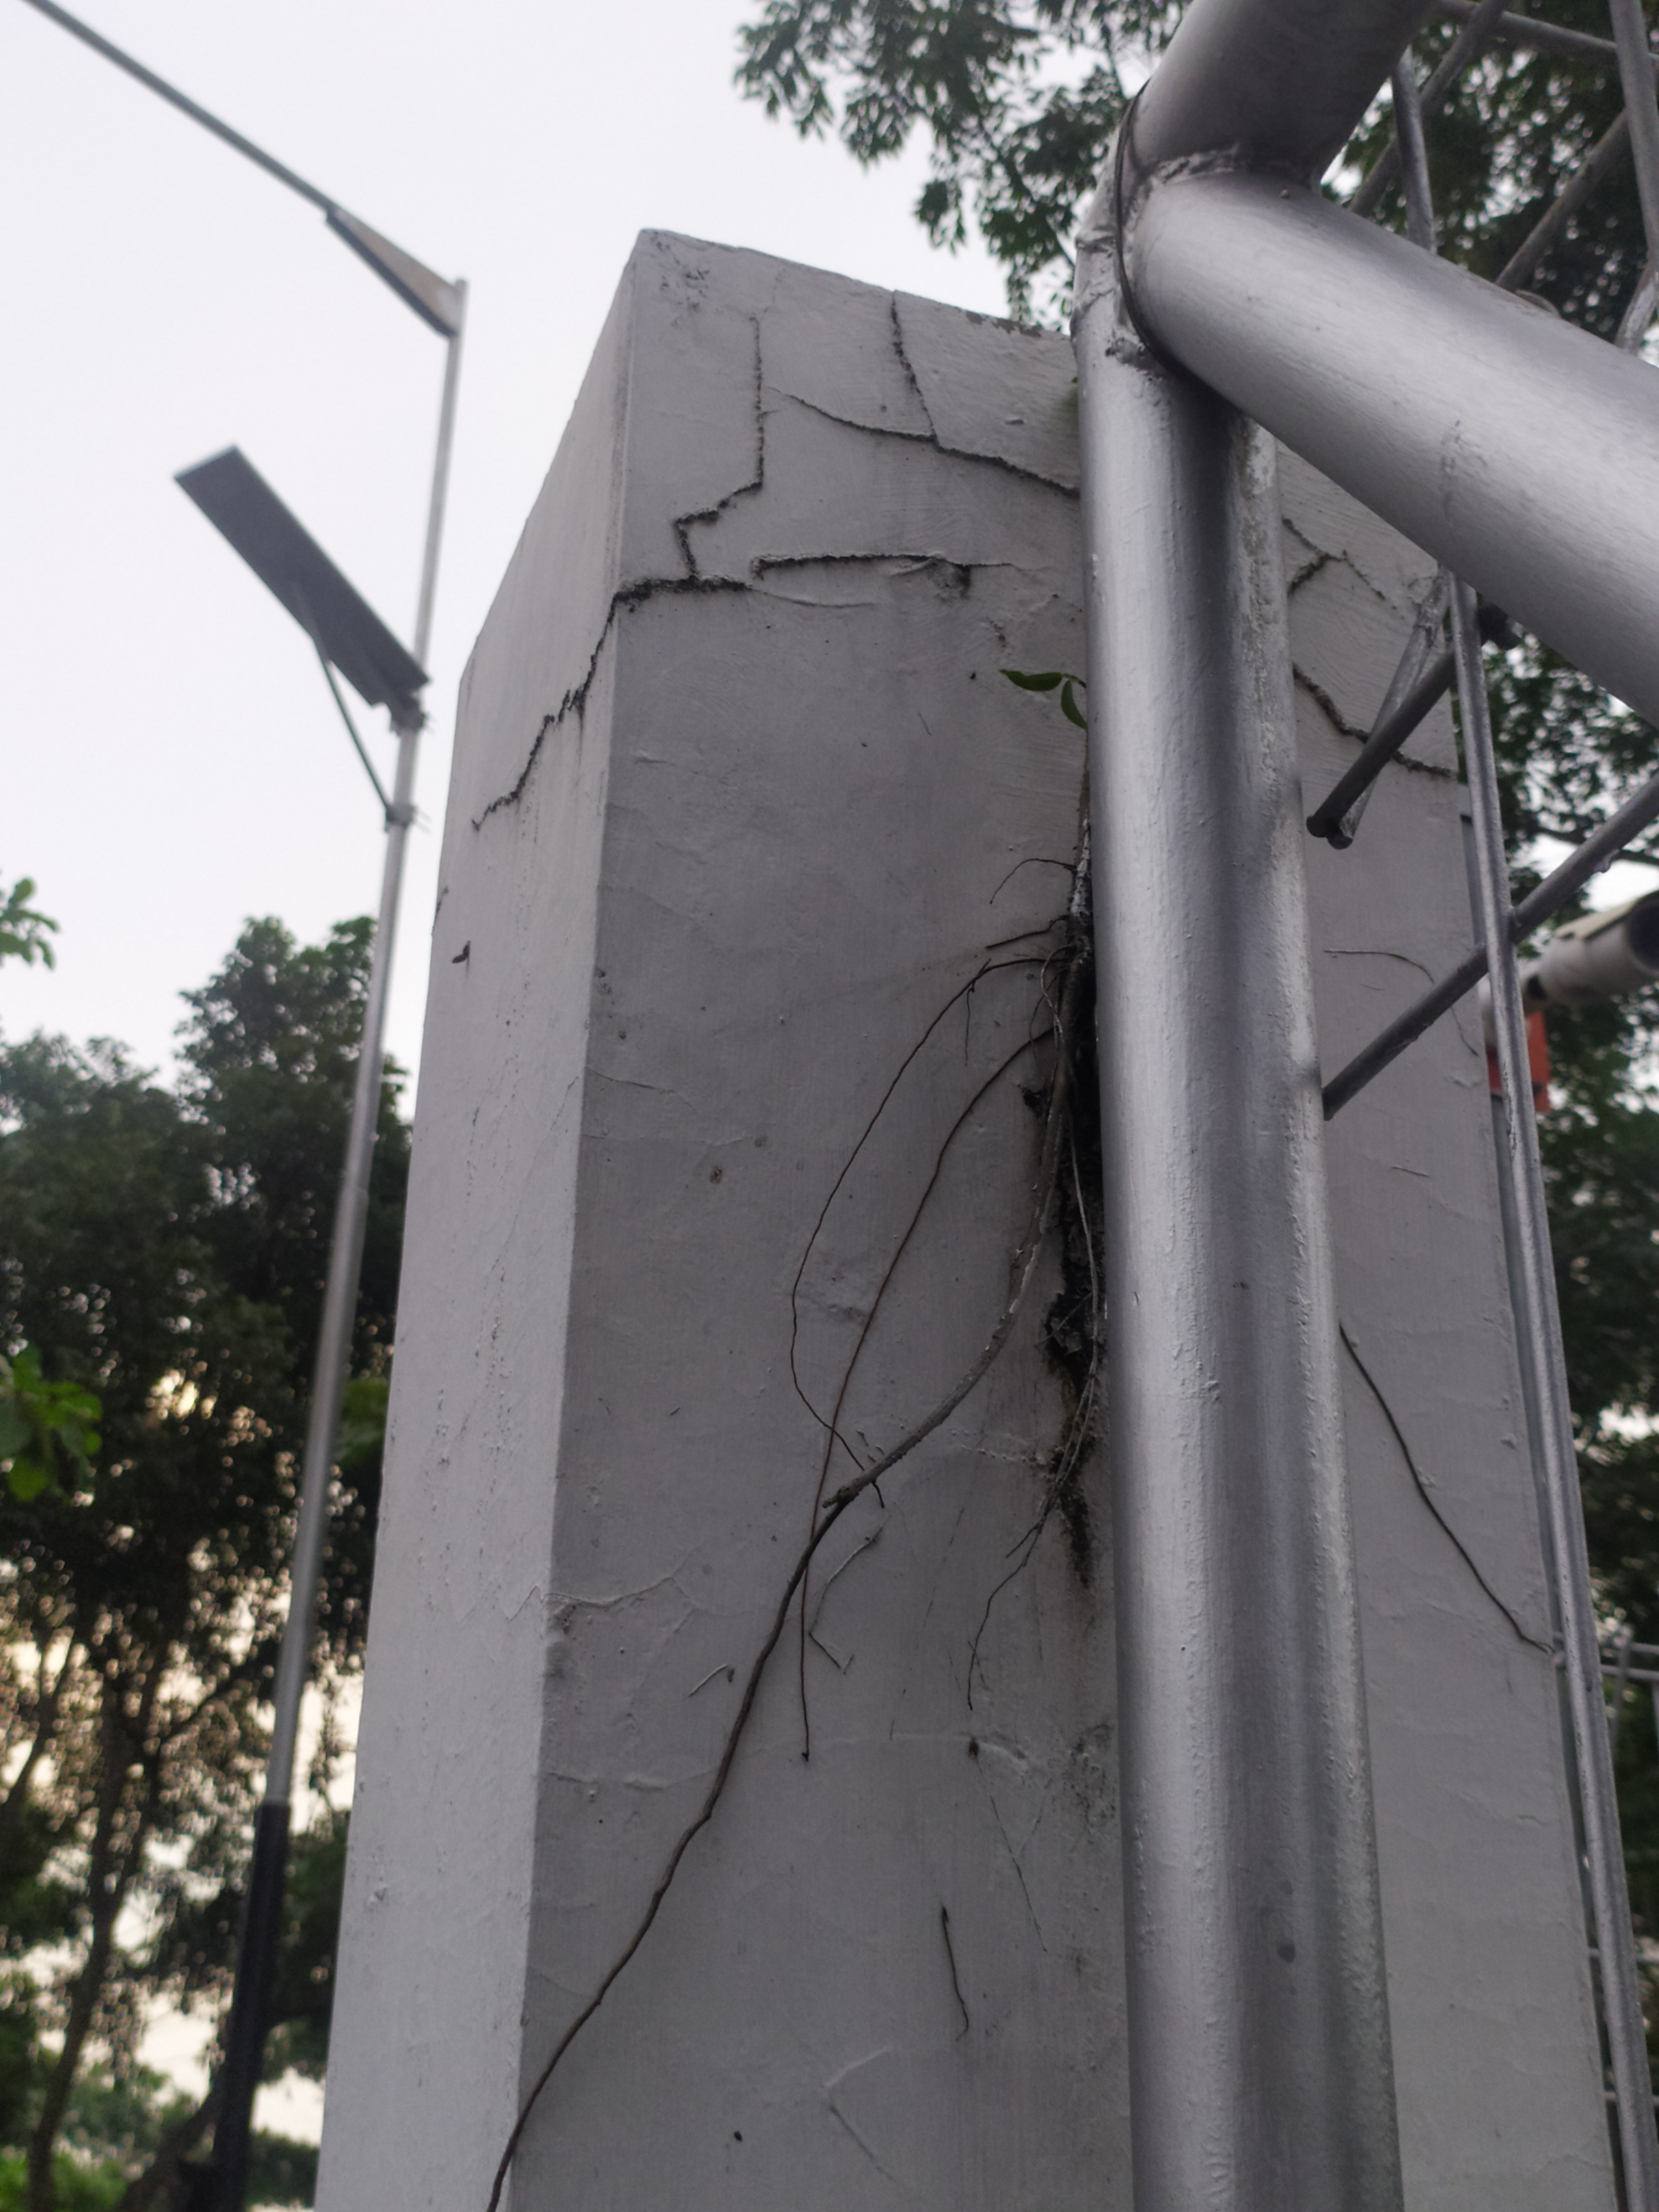crack: (455, 301, 1080, 838), (1288, 521, 1474, 798)
